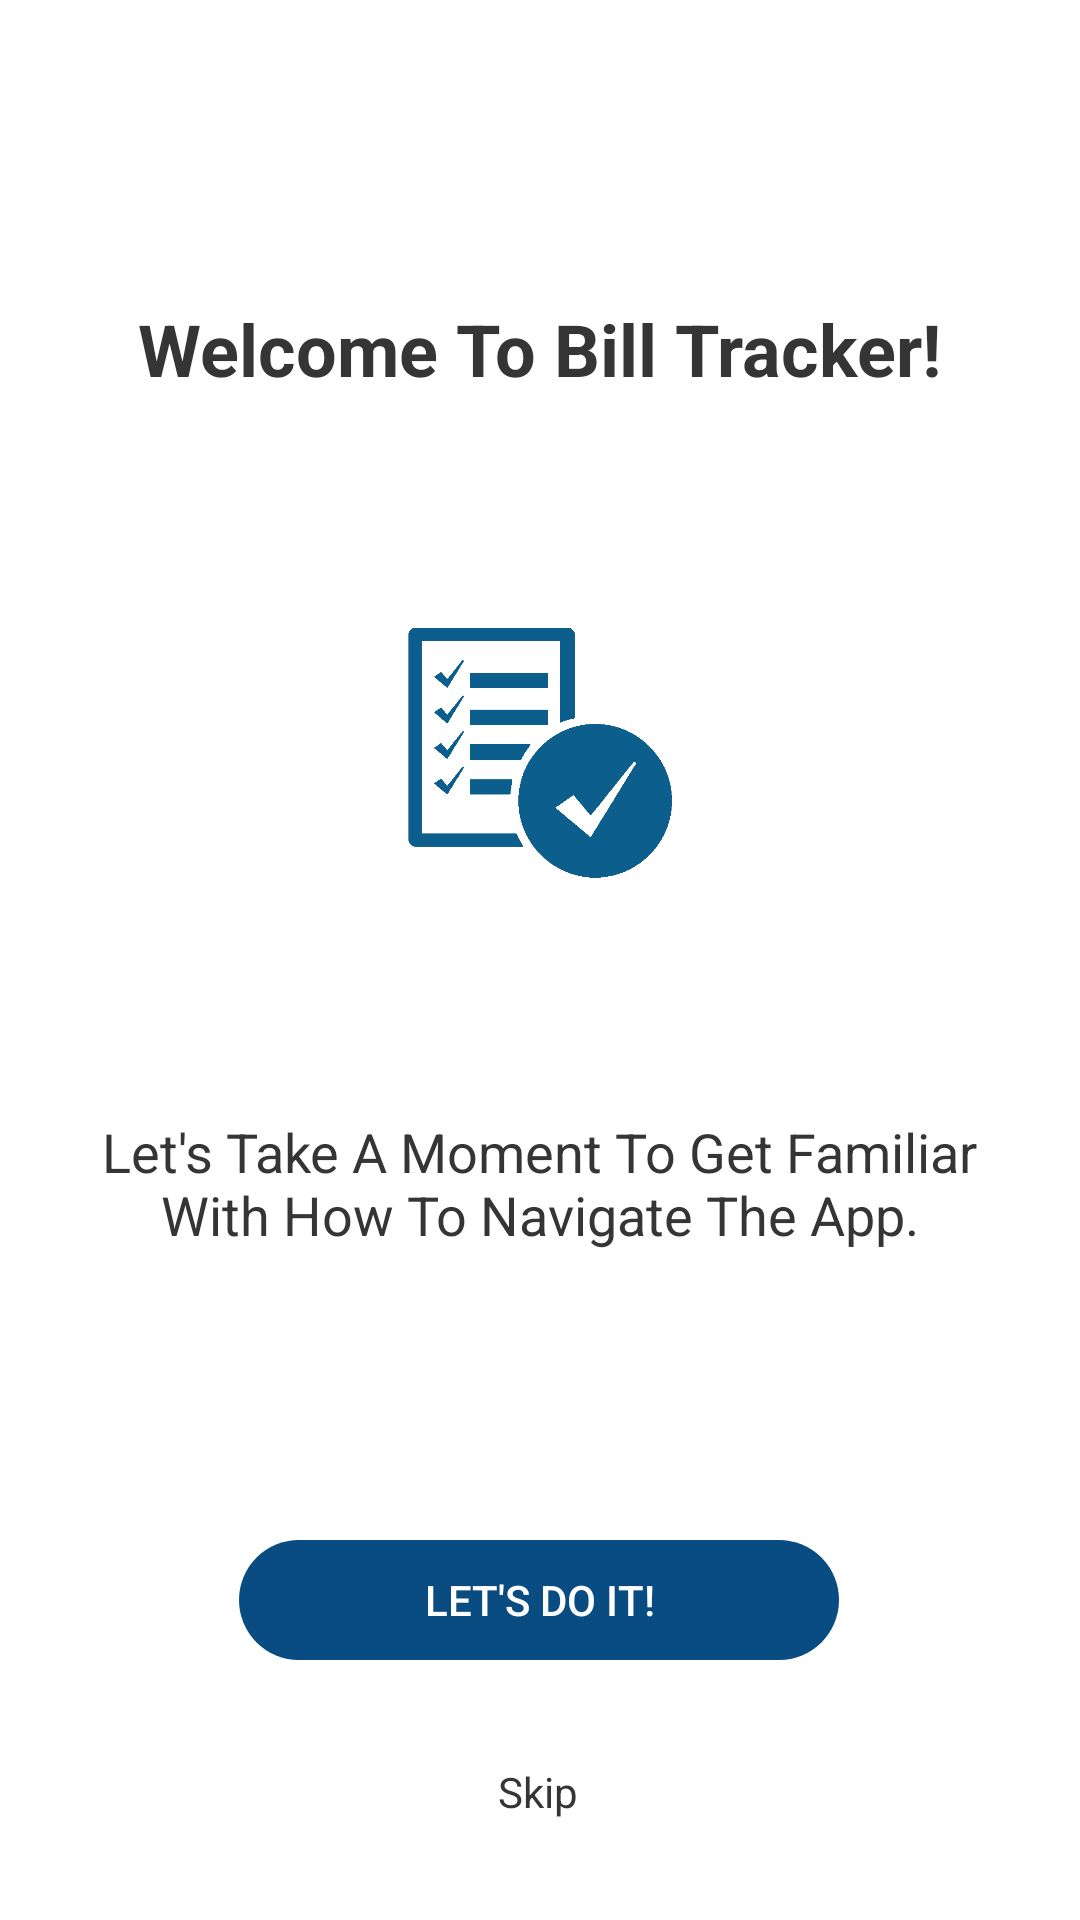

Icon bounding boxes for this 1080×1920 phone screenshot, format (x1, y1, x2, y2):
newbillsicon: (408, 628, 672, 878)
